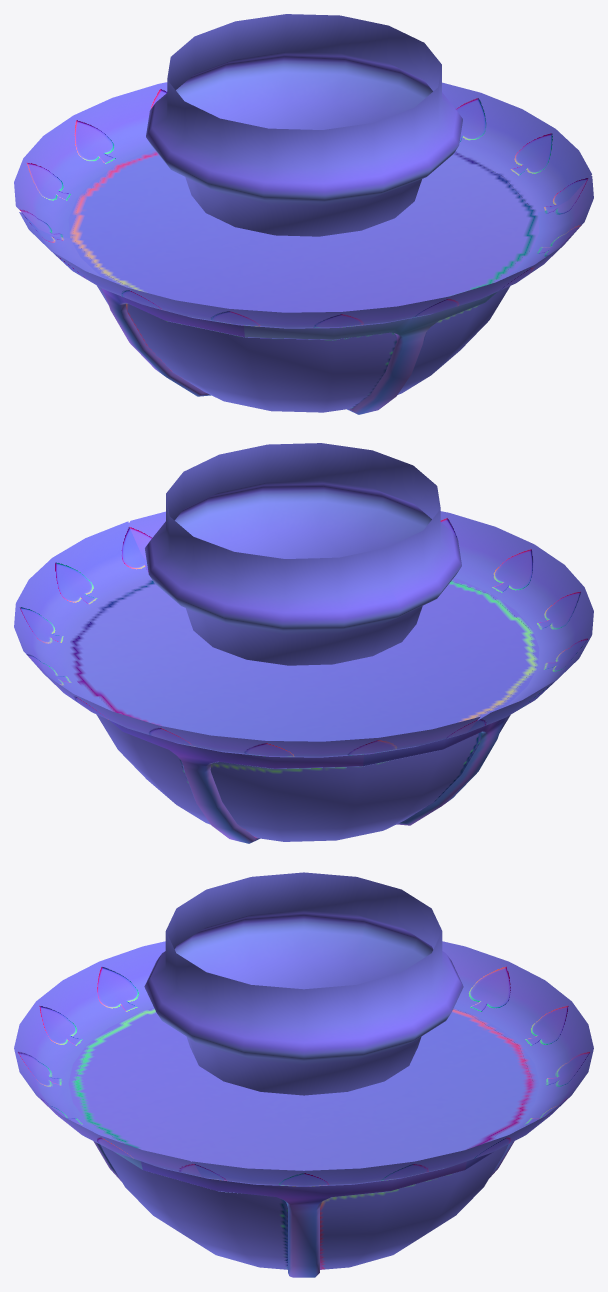
The model's file is mesh_deng.FBX.
The picture shows the model from 3 angles, top to bottom: view 1: azimuth 30°, elevation 25°; view 2: azimuth 150°, elevation 25°; view 3: azimuth 270°, elevation 25°; orthographic projection.
Parts seen in each view (by area): view 1: dadeng; view 2: dadeng; view 3: dadeng.
Part boxes in pixels (x1,y1,x2,y2): dadeng: (14, 14, 593, 414); dadeng: (14, 443, 593, 843); dadeng: (14, 872, 593, 1277).
Size of the model in its own units: 2.48 by 1.5 by 2.48.
1 material, 1 textured.
